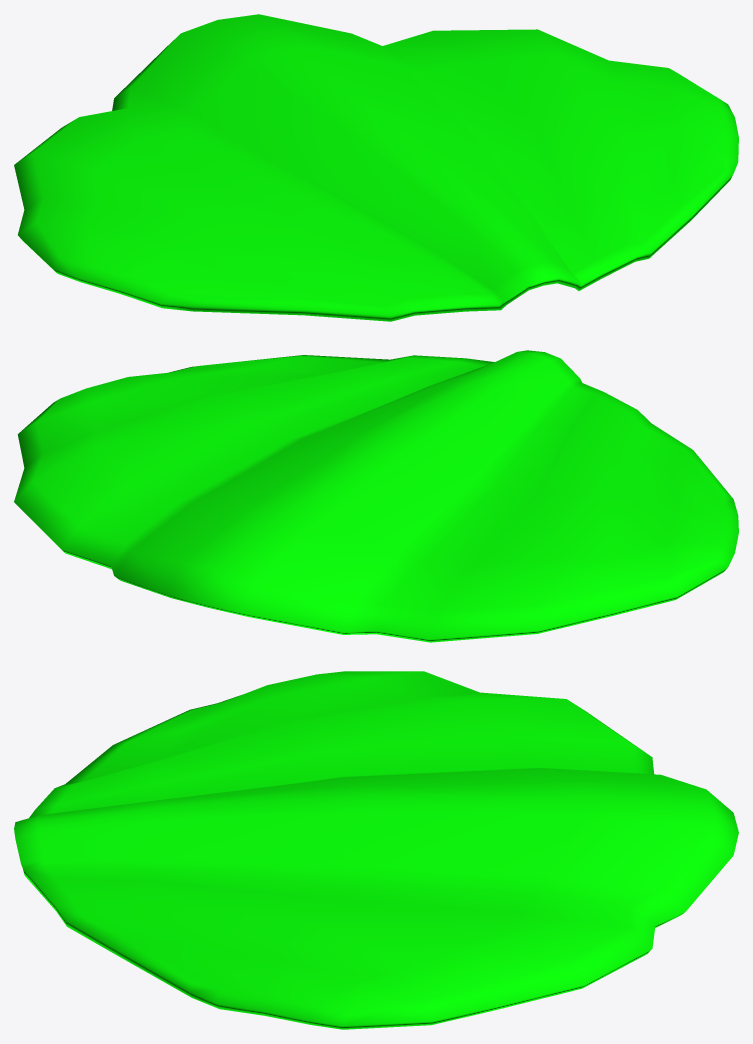
The model's file is Shell_3.fbx.
3 views of the same model, one above another, from view 1: azimuth 30°, elevation 25°; view 2: azimuth 150°, elevation 25°; view 3: azimuth 270°, elevation 25° (orthographic). The views are drawn at different scales.
Visible parts, largest first — view 1: Shell_3; view 2: Shell_3; view 3: Shell_3.
Boxes of the visible parts, x1,y1,x2,y2 form: Shell_3: [14, 14, 738, 321]; Shell_3: [14, 350, 738, 642]; Shell_3: [14, 671, 738, 1029].
Size of the model in its own units: 60.89 by 5.42 by 53.16.
